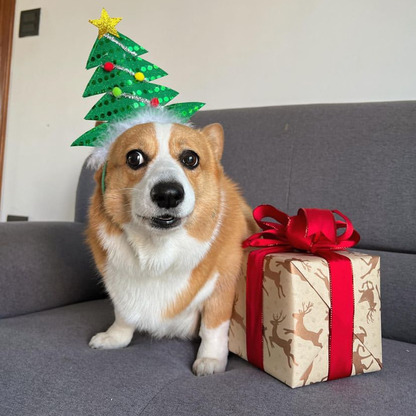Corgi: (63, 120, 266, 370)
